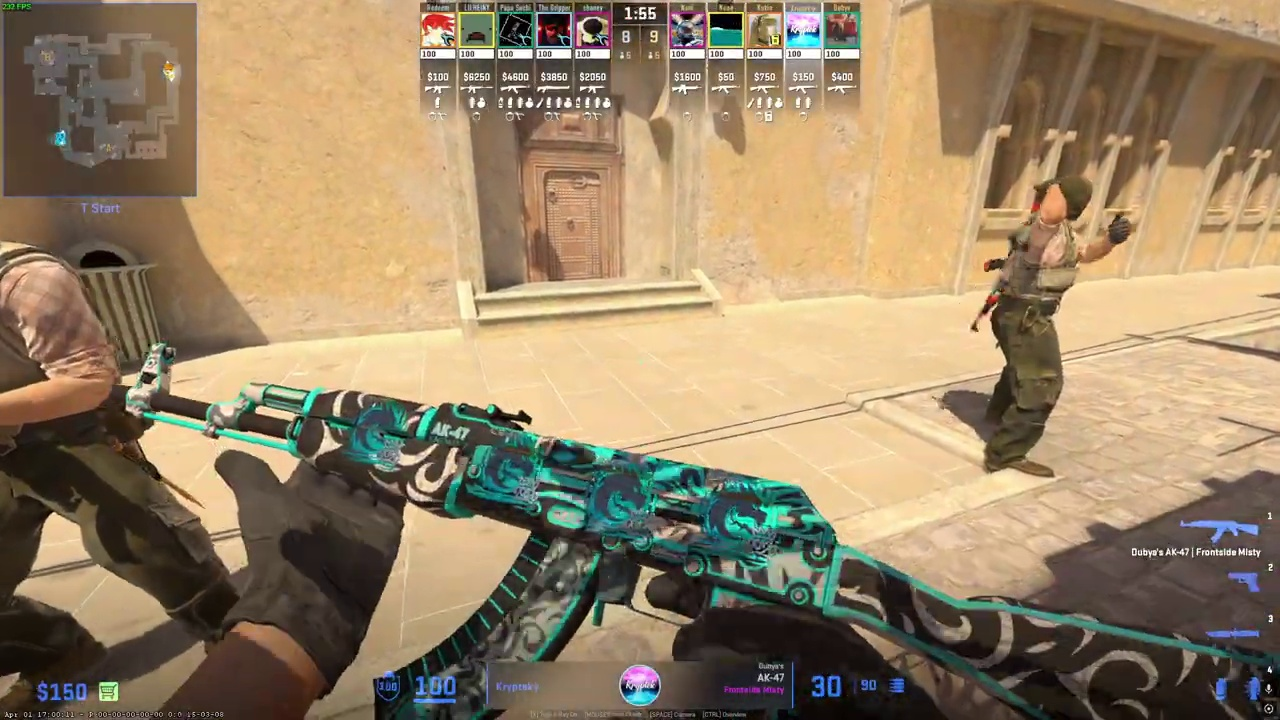Terrorist: (1, 183, 211, 711), (977, 172, 1096, 482)
